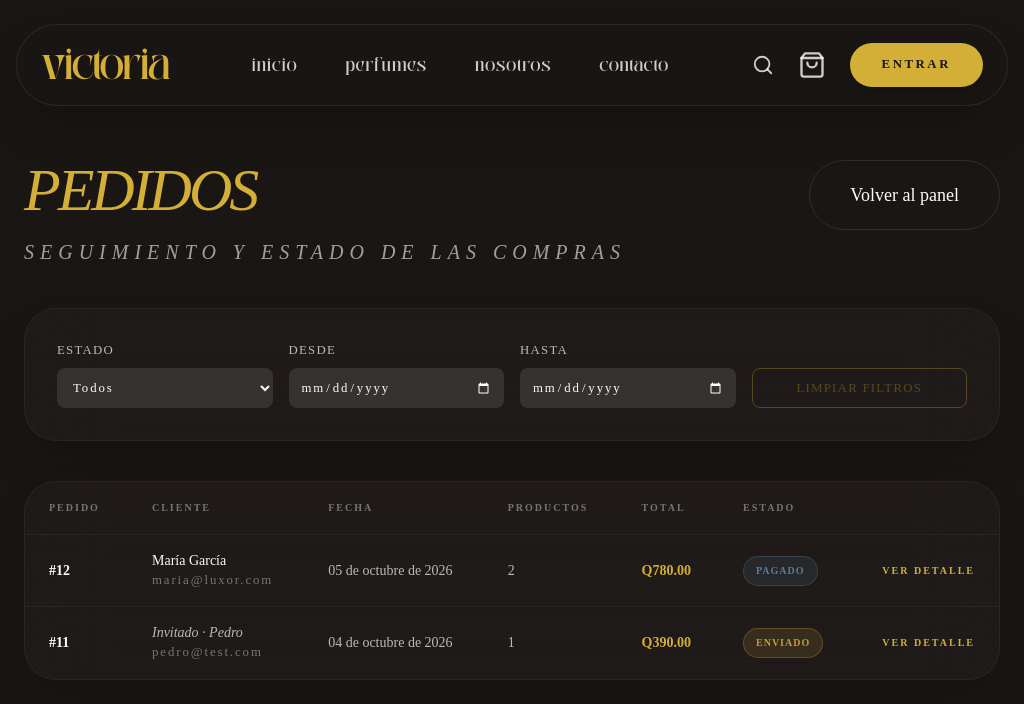
it: AdminOrdersPage › el selector del detalle solo ofrece los estados permitidos
Click the text "#12": x=52, y=570 [25, 535, 128, 607]
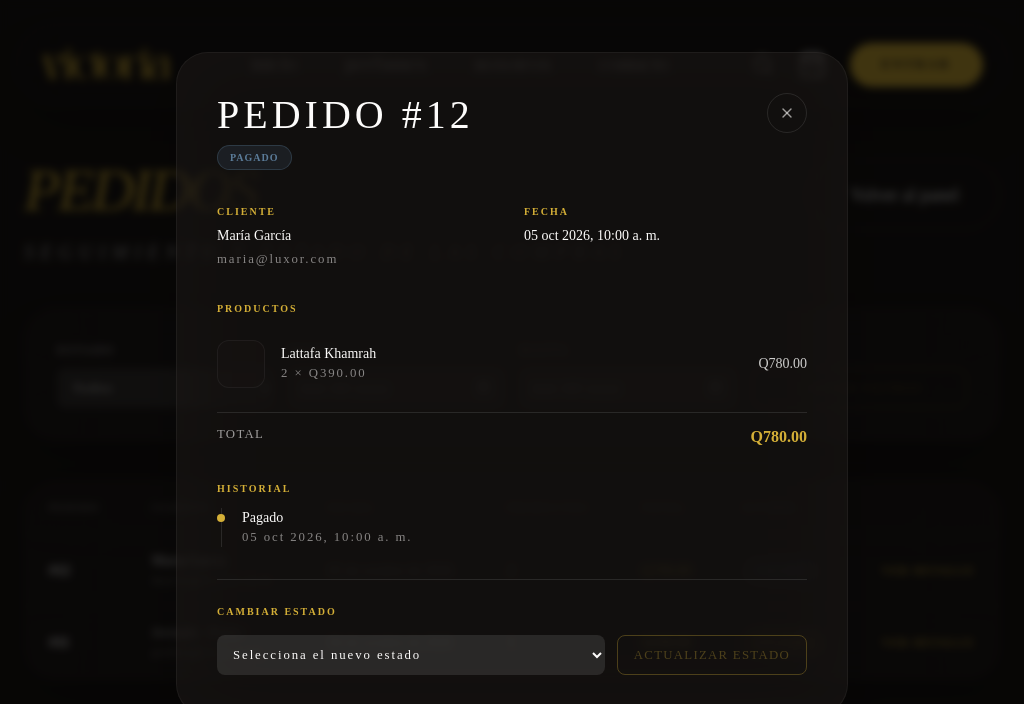
Now the text "Lattafa Khamrah" is shown, box [281, 346, 376, 361]
